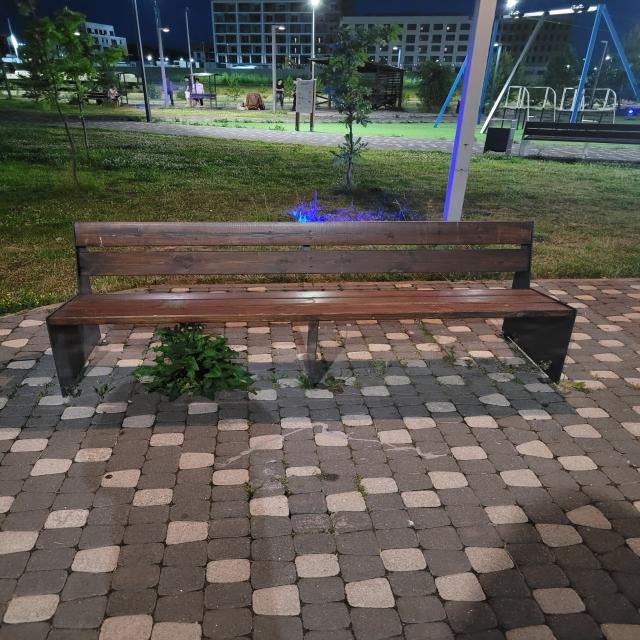Bench: (45, 221, 577, 397)
